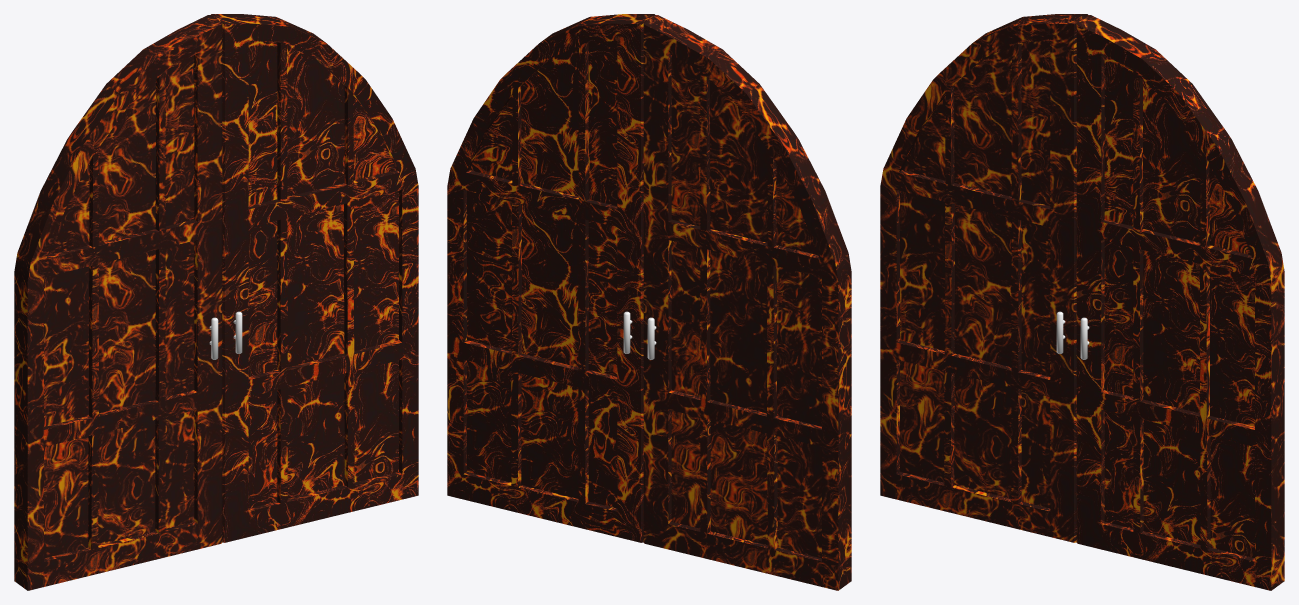
File: ChurchDoor_Cursed.gltf
3 renders of one model, left to right at view 1: azimuth 30°, elevation 25°; view 2: azimuth 150°, elevation 25°; view 3: azimuth 330°, elevation 25°, orthographic.
Parts seen in each view (by area): view 1: ChurchDoor.2, ChurchDoor1, ChurchDoorHandles; view 2: ChurchDoor.2, ChurchDoor1, ChurchDoorHandles; view 3: ChurchDoor1, ChurchDoor.2, ChurchDoorHandles.
Boxes of the visible parts, <box> form: ChurchDoor.2: <box>14,15,222,590</box>; ChurchDoor1: <box>211,14,418,542</box>; ChurchDoorHandles: <box>209,311,242,359</box>; ChurchDoor.2: <box>643,15,851,590</box>; ChurchDoor1: <box>447,14,654,542</box>; ChurchDoorHandles: <box>623,311,656,359</box>; ChurchDoor1: <box>1076,15,1284,590</box>; ChurchDoor.2: <box>880,14,1087,542</box>; ChurchDoorHandles: <box>1056,311,1089,359</box>.
Size of the model in its own units: 33.7 by 42.8 by 3.61.
Materials: 2 (1 with a texture image).
